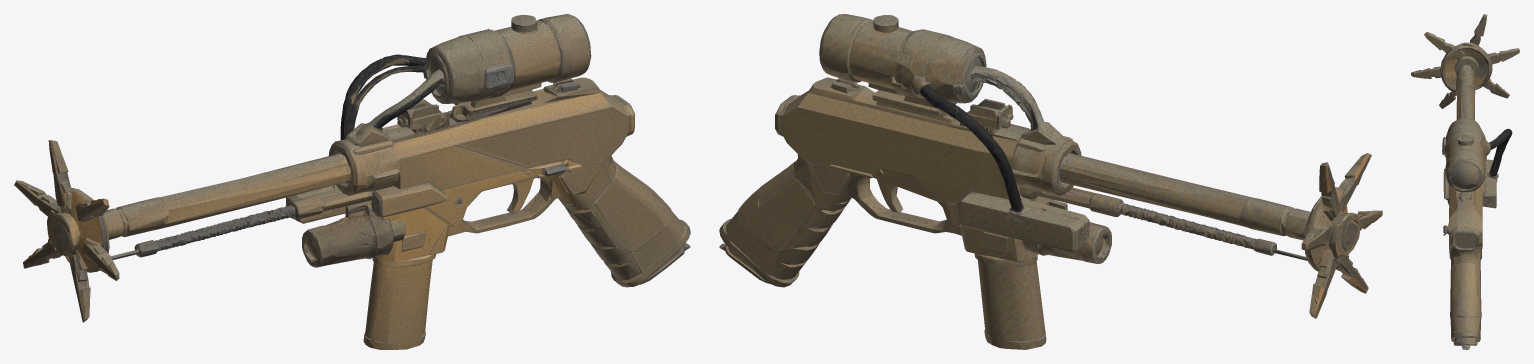
Rendered from grapple_gun.glb.
3 views of the same model, side by side, from view 1: azimuth 30°, elevation 25°; view 2: azimuth 150°, elevation 25°; view 3: azimuth 270°, elevation 25° (orthographic). The views are drawn at different scales.
Visible parts, largest first — view 1: mesh_node; view 2: mesh_node; view 3: mesh_node.
Part boxes in pixels (x1,y1,x2,y2): mesh_node: [14, 14, 690, 349]; mesh_node: [719, 14, 1382, 349]; mesh_node: [1411, 14, 1519, 349].
Bounding box in the file's own units: 1.9 × 0.8397 × 0.4658.
Materials: 1 (1 with a texture image).
